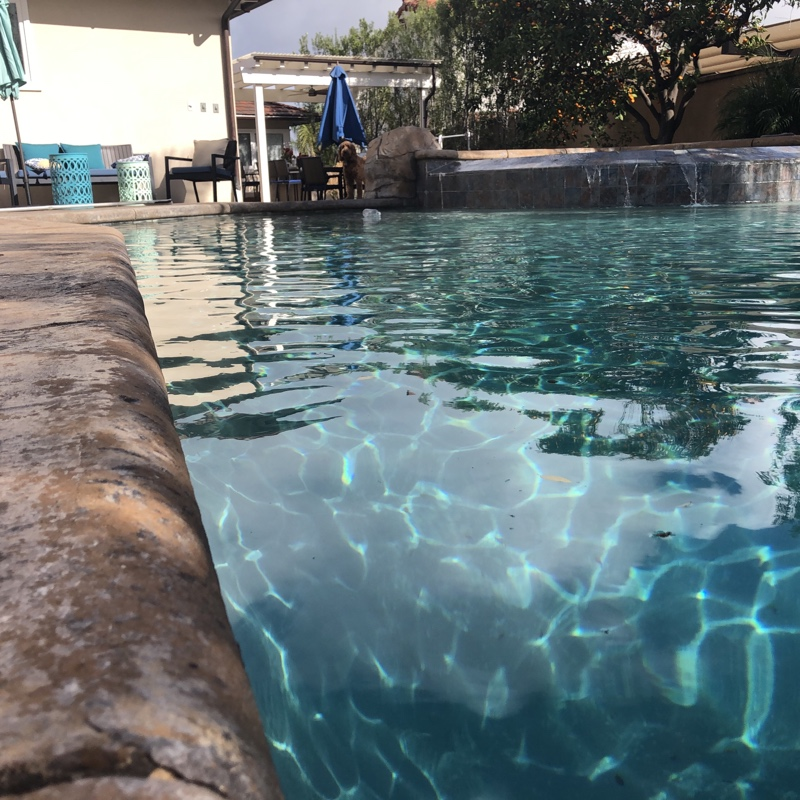Plastic Bottle: (359, 206, 383, 227)
